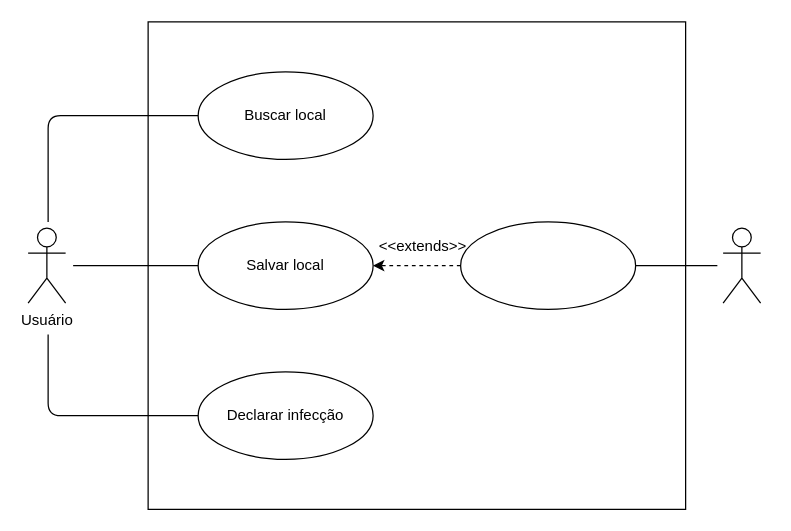
The diagram is 791 pixels wide and 531 high, and some of its shapes have lost their labels. Here are the shapes that lost their labels. From the top down, the centre of each, then its label:
At pixel 547 265: "Notificar exposição".
At pixel 741 265: "Servidor".
